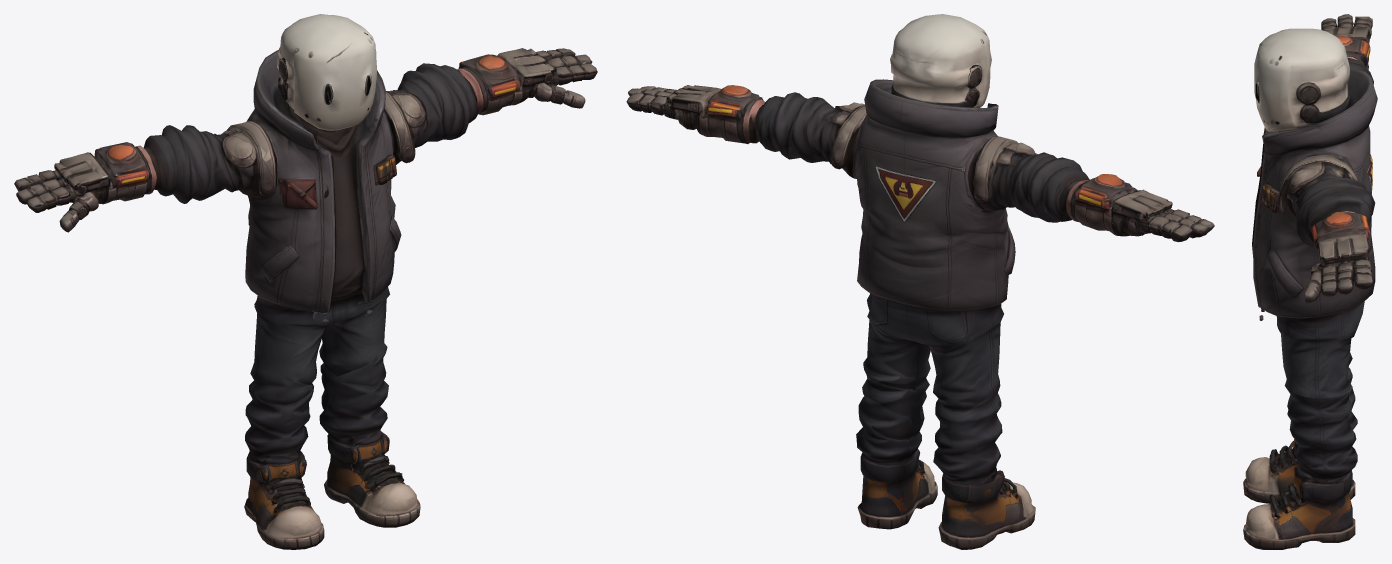
Rendered from Jefe_2.fbx.
3 renders of one model, left to right at view 1: azimuth 30°, elevation 25°; view 2: azimuth 150°, elevation 25°; view 3: azimuth 270°, elevation 25°, orthographic. The views are drawn at different scales.
Visible parts, largest first — view 1: tripo_node_e77dc543-c620-4906-b6fd-d2beaa36fb40; view 2: tripo_node_e77dc543-c620-4906-b6fd-d2beaa36fb40; view 3: tripo_node_e77dc543-c620-4906-b6fd-d2beaa36fb40.
Part boxes in pixels (bbox=[...]): tripo_node_e77dc543-c620-4906-b6fd-d2beaa36fb40: bbox=[14, 14, 597, 549]; tripo_node_e77dc543-c620-4906-b6fd-d2beaa36fb40: bbox=[626, 14, 1214, 549]; tripo_node_e77dc543-c620-4906-b6fd-d2beaa36fb40: bbox=[1243, 14, 1377, 549].
Bounding box in the file's own units: 0.998 × 0.8262 × 0.209.
